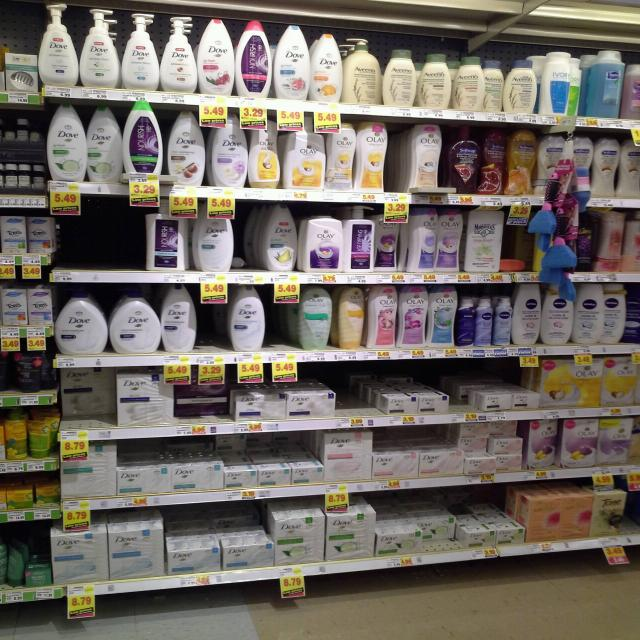void: (66, 196, 136, 286), (340, 364, 380, 435)
